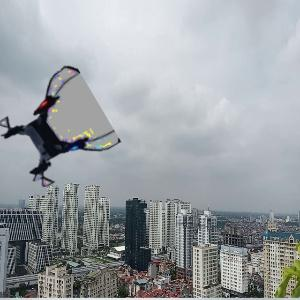drone: (4, 80, 108, 184)
